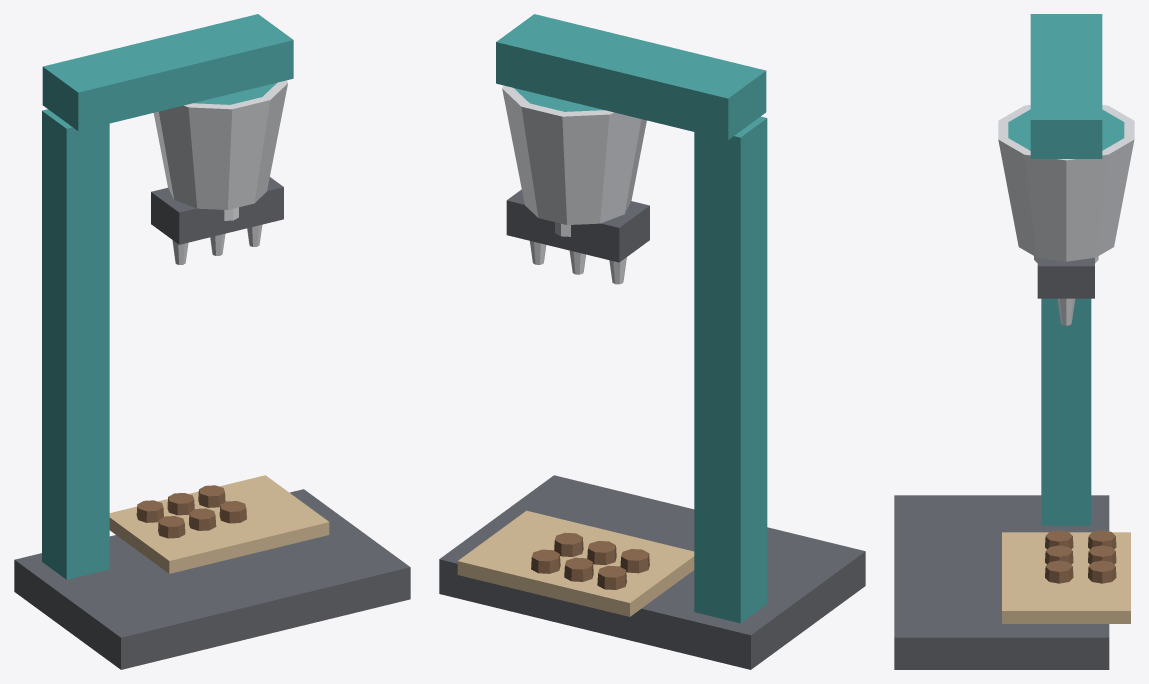
File: chocolate-and-confectionery-factory-filling-piping-hea-dbd58b0f__36773.glb
3 views of the same model, side by side, from view 1: azimuth 30°, elevation 25°; view 2: azimuth 150°, elevation 25°; view 3: azimuth 270°, elevation 25° (orthographic). The views are drawn at different scales.
Parts seen in each view (by area): view 1: filling-piping-head, head-piping/dark, head-piping/steel; view 2: filling-piping-head, head-piping/dark, head-piping/steel; view 3: filling-piping-head, head-piping/dark, head-piping/steel.
Boxes of the visible parts, x1,y1,x2,y2 form: filling-piping-head: (14, 14, 410, 669); head-piping/dark: (151, 177, 283, 244); head-piping/steel: (172, 207, 262, 264); filling-piping-head: (439, 14, 865, 669); head-piping/dark: (506, 189, 649, 262); head-piping/steel: (530, 222, 626, 284); filling-piping-head: (894, 14, 1134, 669); head-piping/dark: (1037, 257, 1094, 298); head-piping/steel: (1034, 256, 1098, 325).
Bounding box in the file's own units: 0.94 × 1.62 × 0.6702.
